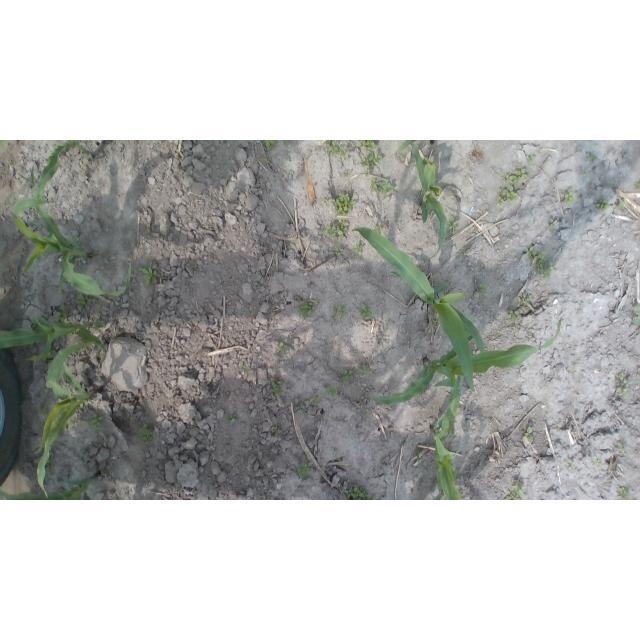Maize: (352, 228, 486, 392), (362, 315, 563, 405), (12, 198, 132, 299), (35, 341, 103, 499), (1, 311, 112, 363), (36, 141, 101, 212), (410, 141, 448, 259), (430, 376, 463, 501)
Weeds: (521, 247, 557, 280), (507, 291, 531, 321), (322, 218, 350, 242), (361, 150, 384, 178), (333, 192, 356, 216), (370, 177, 396, 197), (325, 140, 349, 161), (344, 484, 375, 500), (496, 185, 518, 207), (505, 479, 527, 500), (503, 167, 529, 183), (136, 423, 152, 446), (615, 374, 630, 398), (296, 301, 316, 319), (333, 304, 351, 323), (565, 186, 580, 207), (141, 268, 159, 285), (83, 414, 104, 428), (447, 215, 462, 234), (265, 140, 291, 150), (296, 461, 312, 477), (56, 306, 71, 323), (272, 376, 282, 400), (340, 369, 354, 384), (358, 140, 378, 150), (617, 488, 632, 501), (524, 426, 535, 443), (595, 199, 610, 211), (586, 152, 599, 164), (454, 247, 466, 260), (358, 363, 370, 376), (477, 283, 488, 297), (361, 304, 371, 319), (633, 305, 640, 326), (326, 386, 339, 397), (278, 342, 288, 356), (374, 222, 385, 234), (76, 299, 88, 309), (618, 443, 627, 456), (36, 404, 46, 415), (528, 152, 537, 164), (548, 219, 558, 229), (354, 242, 364, 252), (618, 199, 627, 209), (227, 414, 237, 423), (335, 248, 346, 256), (311, 397, 321, 405), (342, 170, 352, 178), (595, 459, 603, 467), (634, 180, 640, 190), (241, 365, 251, 371), (555, 425, 562, 433), (297, 404, 303, 413), (567, 462, 573, 469), (274, 427, 278, 436), (364, 411, 369, 415)
